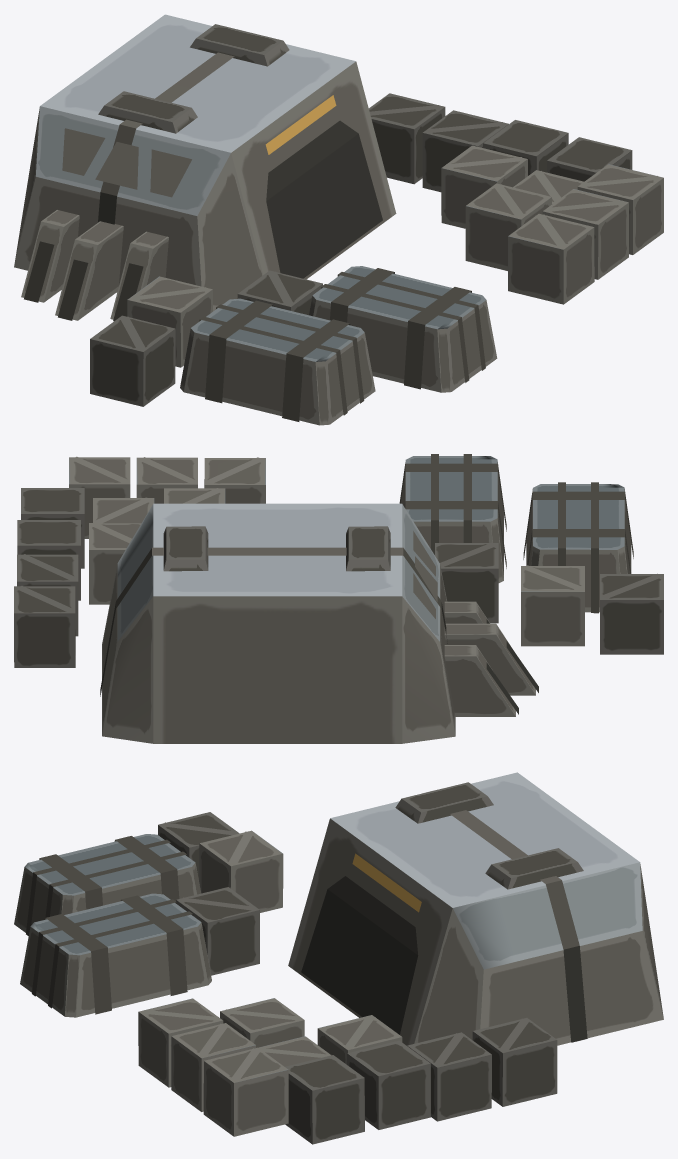
Rendered from warehouse1.FBX.
The picture shows the model from 3 angles, top to bottom: view 1: azimuth 30°, elevation 25°; view 2: azimuth 150°, elevation 25°; view 3: azimuth 270°, elevation 25°; orthographic projection.
Visible parts, largest first — view 1: Warehouse_lv1, 2, 3, 1; view 2: Warehouse_lv1, 3, 2, 1; view 3: Warehouse_lv1.
Boxes of the visible parts, box(x1,y1,x2,y2) form: Warehouse_lv1: box(14, 14, 663, 425); 2: box(55, 221, 123, 320); 3: box(21, 210, 79, 302); 1: box(110, 231, 168, 321); Warehouse_lv1: box(14, 454, 663, 743); 3: box(444, 645, 518, 716); 2: box(444, 623, 538, 695); 1: box(444, 601, 490, 623); Warehouse_lv1: box(14, 772, 663, 1144).
Size of the model in its own units: 150 by 145 by 38.39.
